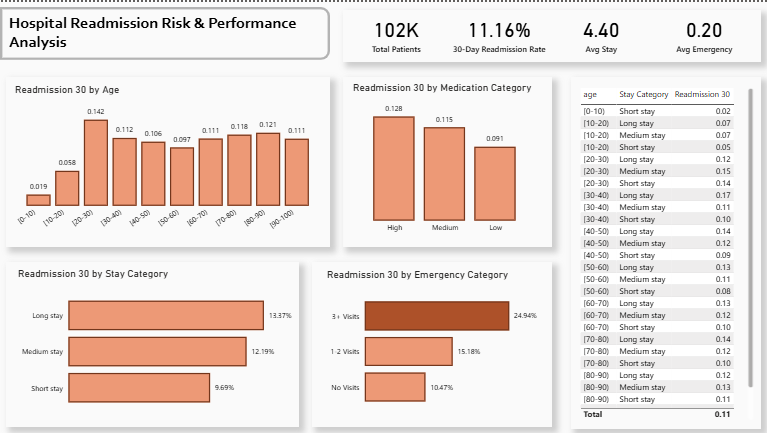

The dashboard page shown, as its layout file describes it:
{"tool":"powerbi","page":{"name":"Hospital Readmission Risk & Performance Analysis","canvas":[1280,720],"ordinal":0},"visuals":[{"type":"group","id":"g1","title":"Group 1","box":[951.7,125,316.7,586.7],"z":0},{"type":"shape","box":[10,125,540,283.3],"z":500,"group":"g4"},{"type":"clusteredColumnChart","fields":{"Y":["diabetic_data.Readmission 30"],"Category":["Age Table.Age"]},"box":[20,134.7,519.5,264.7],"z":1000,"group":"g4"},{"type":"group","id":"g2","title":"Group 2","box":[520,433.3,400,275],"z":1000},{"type":"shape","box":[10,433.3,488.3,275],"z":1500,"group":"g5"},{"type":"group","id":"g3","title":"Group 3","box":[571.7,125,348.3,283.3],"z":2000},{"type":"clusteredBarChart","fields":{"Category":["diabetic_data.Stay Category"],"Y":["diabetic_data.Readmission 30"]},"box":[24.8,442,468.2,256.9],"z":2000,"group":"g5"},{"type":"shape","box":[520,433.3,400,275],"z":2500,"group":"g2"},{"type":"group","id":"g4","title":"Group 4","box":[10,125,540,283.3],"z":3000},{"type":"clusteredBarChart","fields":{"Category":["diabetic_data.Emergency"],"Y":["diabetic_data.Readmission 30"]},"box":[539.8,442.6,360.4,253.2],"z":3000,"group":"g2"},{"type":"shape","box":[571.7,125,348.3,283.3],"z":3500,"group":"g3"},{"type":"clusteredColumnChart","fields":{"Category":["diabetic_data.Medication Category"],"Y":["diabetic_data.Readmission 30"]},"box":[583.9,132.4,317.5,262.8],"z":4000,"group":"g3"},{"type":"group","id":"g5","title":"Group 5","box":[10,433.3,488.3,275],"z":4000},{"type":"group","id":"g6","title":"Group 6","box":[571.7,8.3,696.7,91.7],"z":5000},{"type":"shape","box":[951.7,125,316.7,586.7],"z":5000,"group":"g1"},{"type":"group","id":"g7","title":"Group 7","box":[0,8.3,550,88.3],"z":6000},{"type":"shape","box":[571.7,13.7,696.7,86.3],"z":6000,"group":"g6"},{"type":"tableEx","fields":{"Values":["diabetic_data.age","diabetic_data.Stay Category","diabetic_data.Readmission 30"]},"box":[961.3,137.8,298.6,563.3],"z":6000,"group":"g1"},{"type":"card","fields":{"Values":["diabetic_data.Total Patients"]},"box":[575,8.3,171,86.8],"z":6500,"group":"g6"},{"type":"card","fields":{"Values":["diabetic_data.Readmission 30"]},"box":[746,8.3,171,86.8],"z":7000,"group":"g6"},{"type":"card","fields":{"Values":["diabetic_data.Avg Stay"]},"box":[917,8.3,171,86.8],"z":8000,"group":"g6"},{"type":"shape","box":[0,8.3,550,88.3],"z":8502,"group":"g7"},{"type":"card","fields":{"Values":["diabetic_data.Avg Emergency"]},"box":[1088,8.3,171,86.8],"z":9000,"group":"g6"},{"type":"textbox","box":[10.6,13.3,521.6,81.7],"z":9002,"group":"g7"}]}

Visuals, with their boxes in screenshot pixels (x1, y1, x2, y2), scaled from the page's 1280x720 canvas onto the 767x433 screenshot:
"Group 1" group: [x1=570, y1=75, x2=760, y2=428]
shape: [x1=6, y1=75, x2=330, y2=246]
clusteredColumnChart - diabetic_data.Readmission 30 x Age Table.Age: [x1=12, y1=81, x2=323, y2=240]
"Group 2" group: [x1=312, y1=261, x2=551, y2=426]
shape: [x1=6, y1=261, x2=299, y2=426]
"Group 3" group: [x1=343, y1=75, x2=551, y2=246]
clusteredBarChart - diabetic_data.Stay Category x diabetic_data.Readmission 30: [x1=15, y1=266, x2=295, y2=420]
shape: [x1=312, y1=261, x2=551, y2=426]
"Group 4" group: [x1=6, y1=75, x2=330, y2=246]
clusteredBarChart - diabetic_data.Emergency x diabetic_data.Readmission 30: [x1=323, y1=266, x2=539, y2=418]
shape: [x1=343, y1=75, x2=551, y2=246]
clusteredColumnChart - diabetic_data.Medication Category x diabetic_data.Readmission 30: [x1=350, y1=80, x2=540, y2=238]
"Group 5" group: [x1=6, y1=261, x2=299, y2=426]
"Group 6" group: [x1=343, y1=5, x2=760, y2=60]
shape: [x1=570, y1=75, x2=760, y2=428]
"Group 7" group: [x1=0, y1=5, x2=330, y2=58]
shape: [x1=343, y1=8, x2=760, y2=60]
tableEx - diabetic_data.age x diabetic_data.Stay Category: [x1=576, y1=83, x2=755, y2=422]
card - diabetic_data.Total Patients: [x1=345, y1=5, x2=447, y2=57]
card - diabetic_data.Readmission 30: [x1=447, y1=5, x2=549, y2=57]
card - diabetic_data.Avg Stay: [x1=549, y1=5, x2=652, y2=57]
shape: [x1=0, y1=5, x2=330, y2=58]
card - diabetic_data.Avg Emergency: [x1=652, y1=5, x2=754, y2=57]
textbox: [x1=6, y1=8, x2=319, y2=57]
